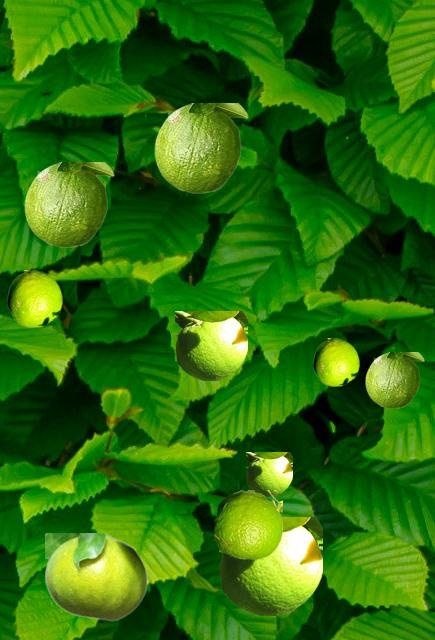dalandan: (219, 517, 321, 614), (45, 533, 147, 620), (154, 103, 247, 192), (24, 162, 113, 246), (175, 311, 246, 379), (214, 490, 281, 558), (365, 352, 423, 407), (7, 270, 61, 326), (313, 338, 358, 385), (246, 452, 291, 495)
